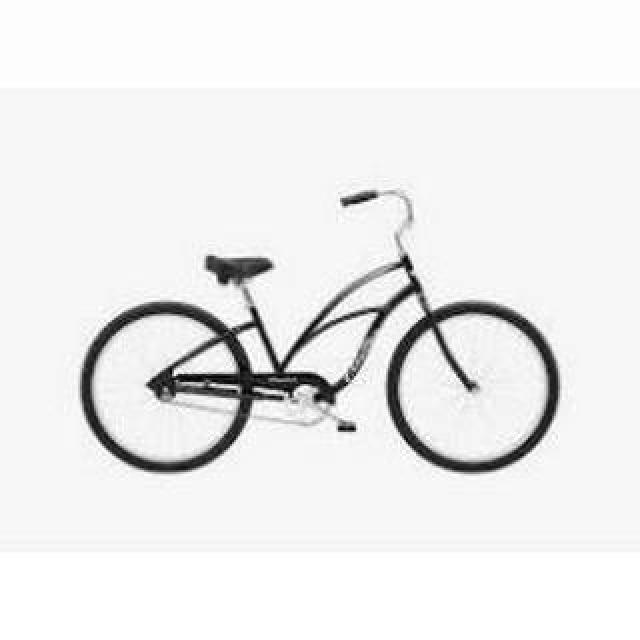Person: (80, 188, 566, 480)
